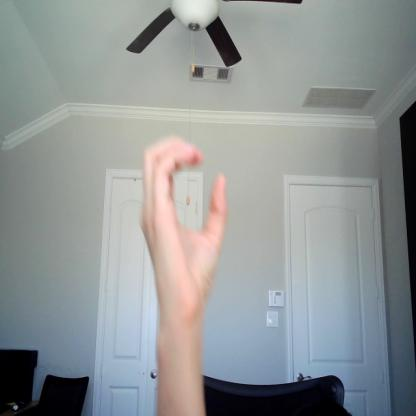C: (140, 132, 231, 293)
